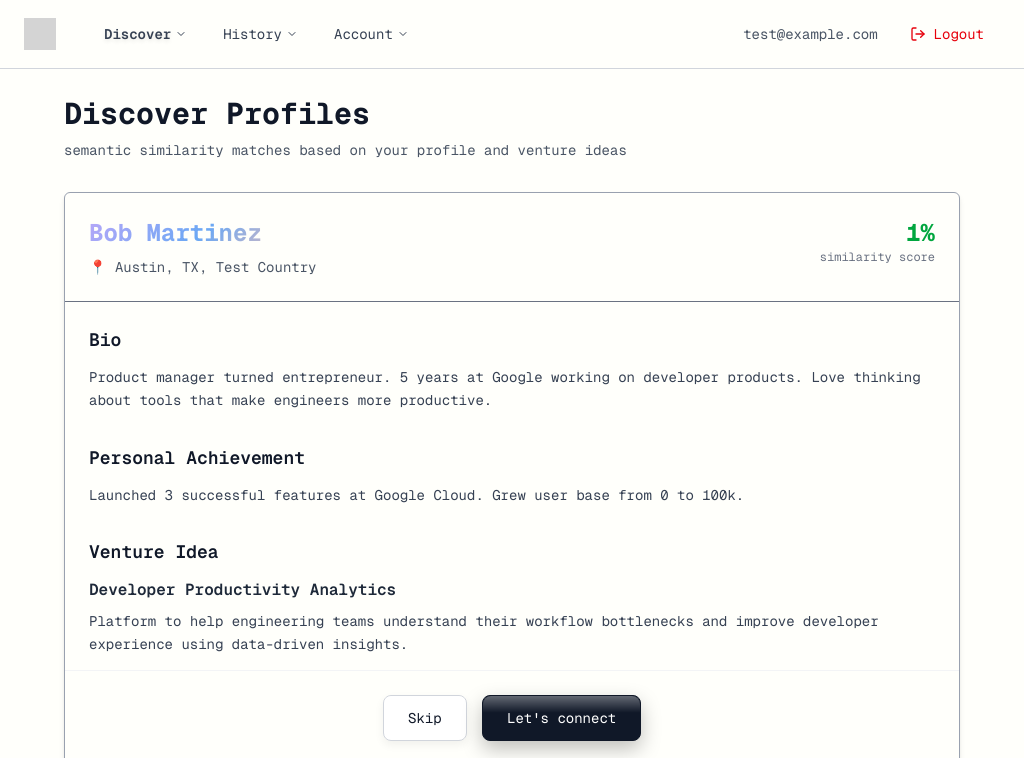
it: MatchesPage Integration Tests › should record like interaction when connect button is clicked
This screenshot has width=1024, height=758.
Step 1. Click the button "Let's connect" → [562, 718], box left=482, top=695, right=641, bottom=741
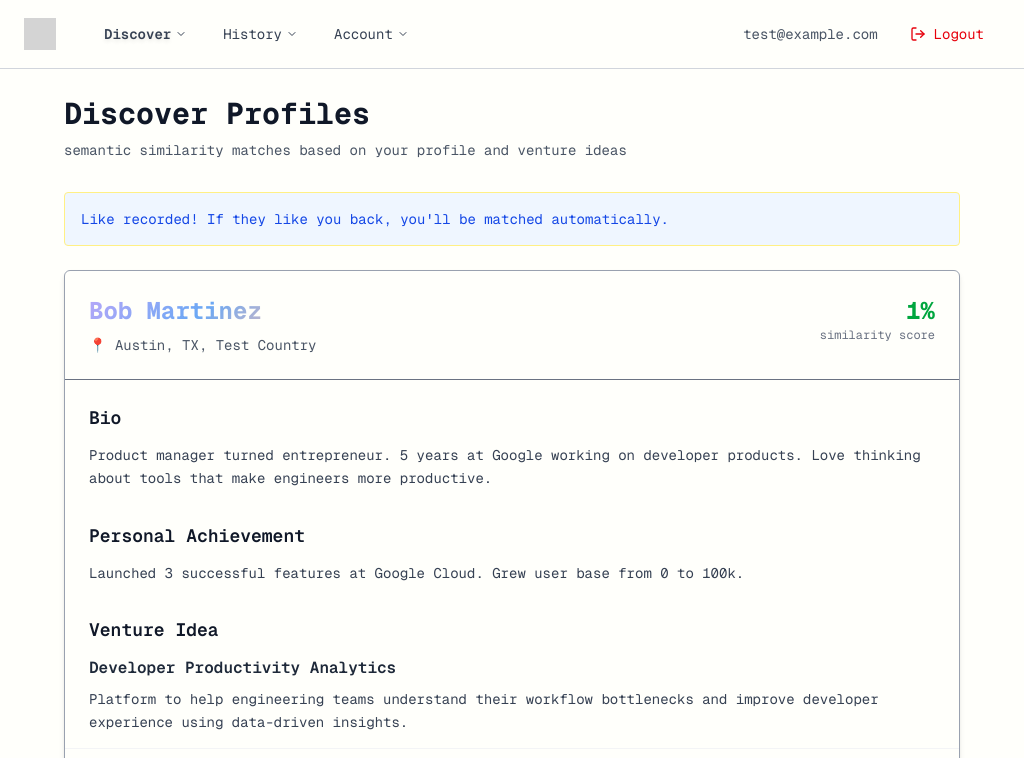
Expected: the text "Like recorded" is shown, left=81, top=210, right=669, bottom=228
